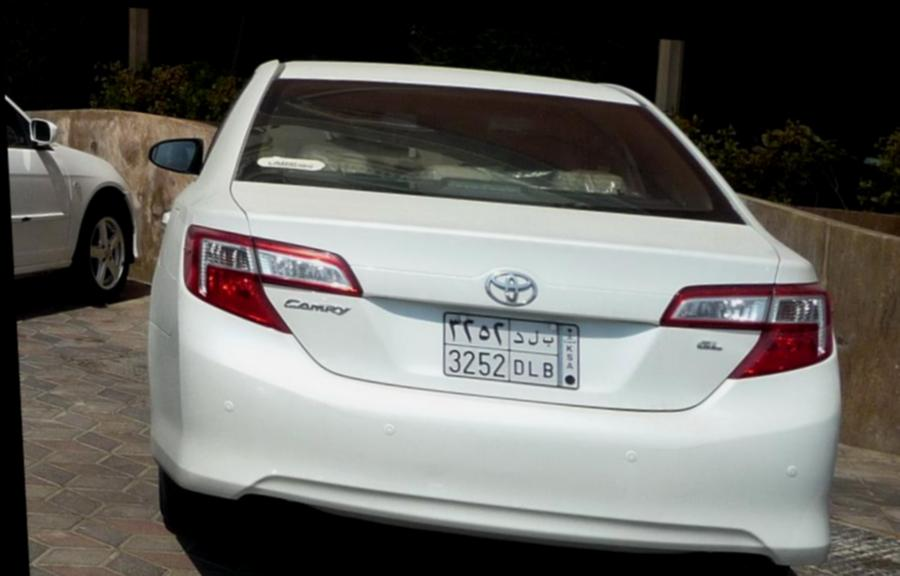License_Plate: (431, 304, 596, 404)
